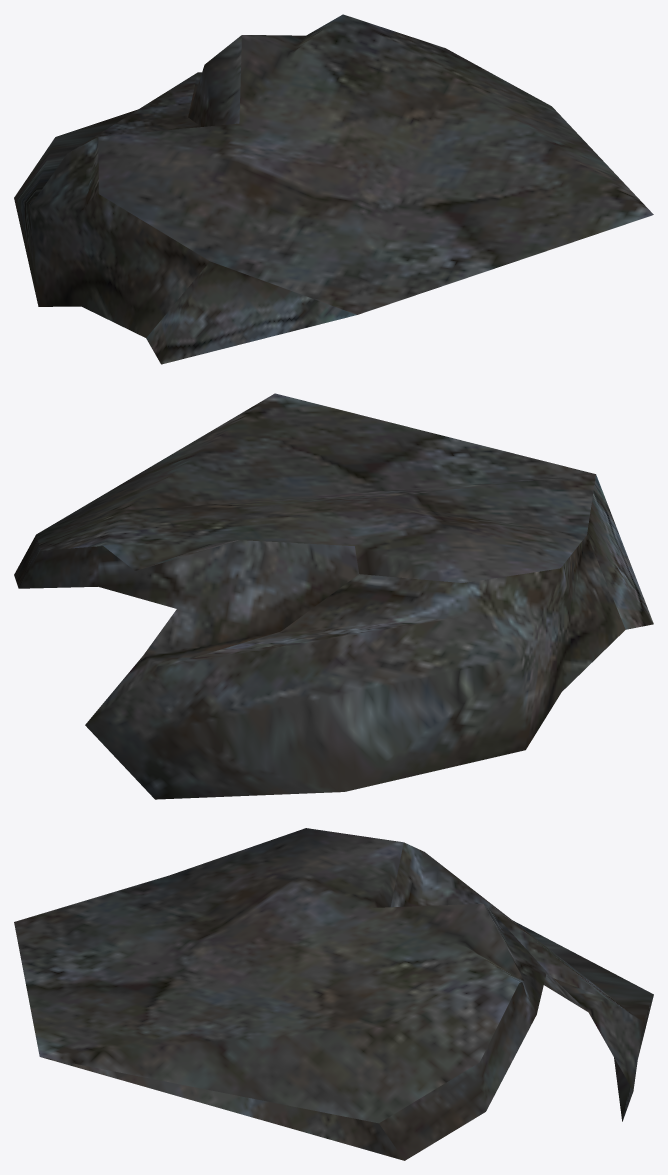
Rendered from S_Rock_Yellow036_H18.FBX.
3 renders of one model, top to bottom at view 1: azimuth 30°, elevation 25°; view 2: azimuth 150°, elevation 25°; view 3: azimuth 270°, elevation 25°, orthographic.
Visible parts, largest first — view 1: S_Rock_Yellow036_H18; view 2: S_Rock_Yellow036_H18; view 3: S_Rock_Yellow036_H18.
Boxes of the visible parts, x1,y1,x2,y2 form: S_Rock_Yellow036_H18: (14,14,653,364); S_Rock_Yellow036_H18: (14,393,653,799); S_Rock_Yellow036_H18: (14,828,653,1160).
Bounding box in the file's own units: 301 × 327 × 119.
Materials: 1 (1 with a texture image).
